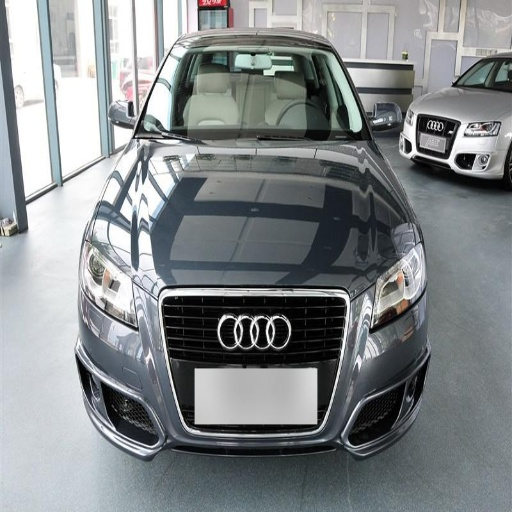back_right_light: (81, 284, 423, 459)
front_bumper: (138, 41, 363, 142)
front_left_door: (362, 245, 425, 329)
front_right_door: (82, 202, 143, 328)
front_right_light: (109, 138, 414, 294)
